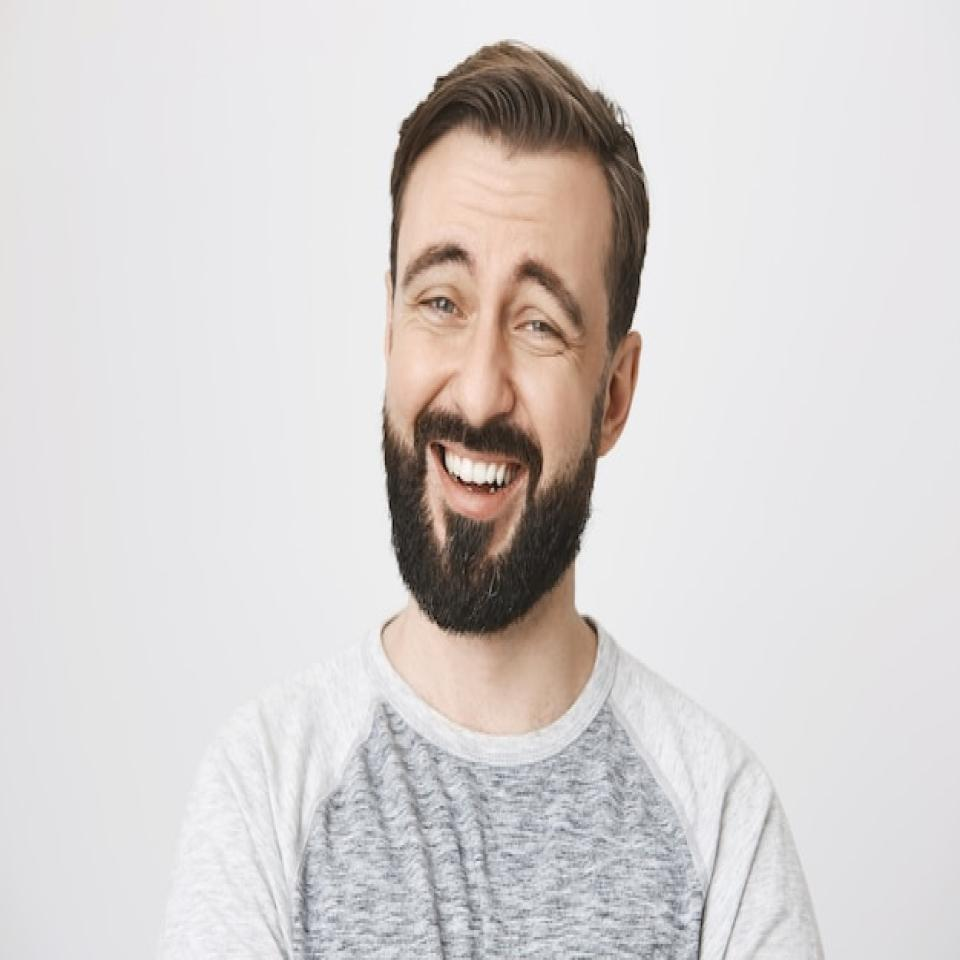Happiness: (399, 219, 594, 594)
